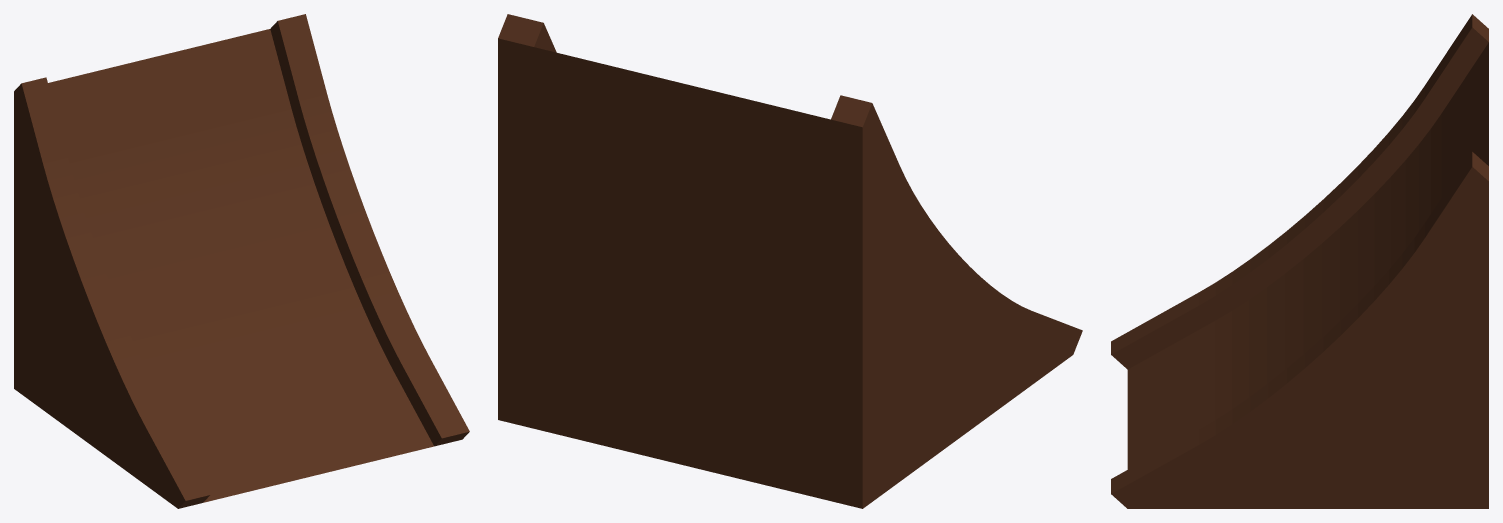
Rendered from 5. Base de madera.fbx.
The picture shows the model from 3 angles, left to right: view 1: azimuth 30°, elevation 25°; view 2: azimuth 150°, elevation 25°; view 3: azimuth 270°, elevation 25°; orthographic projection. The views are drawn at different scales.
Visible parts, largest first — view 1: Cube; view 2: Cube; view 3: Cube.
Boxes of the visible parts, x1,y1,x2,y2 form: Cube: (14,14,469,508); Cube: (498,14,1082,508); Cube: (1111,14,1488,508).
Size of the model in its own units: 200 by 209 by 209.
